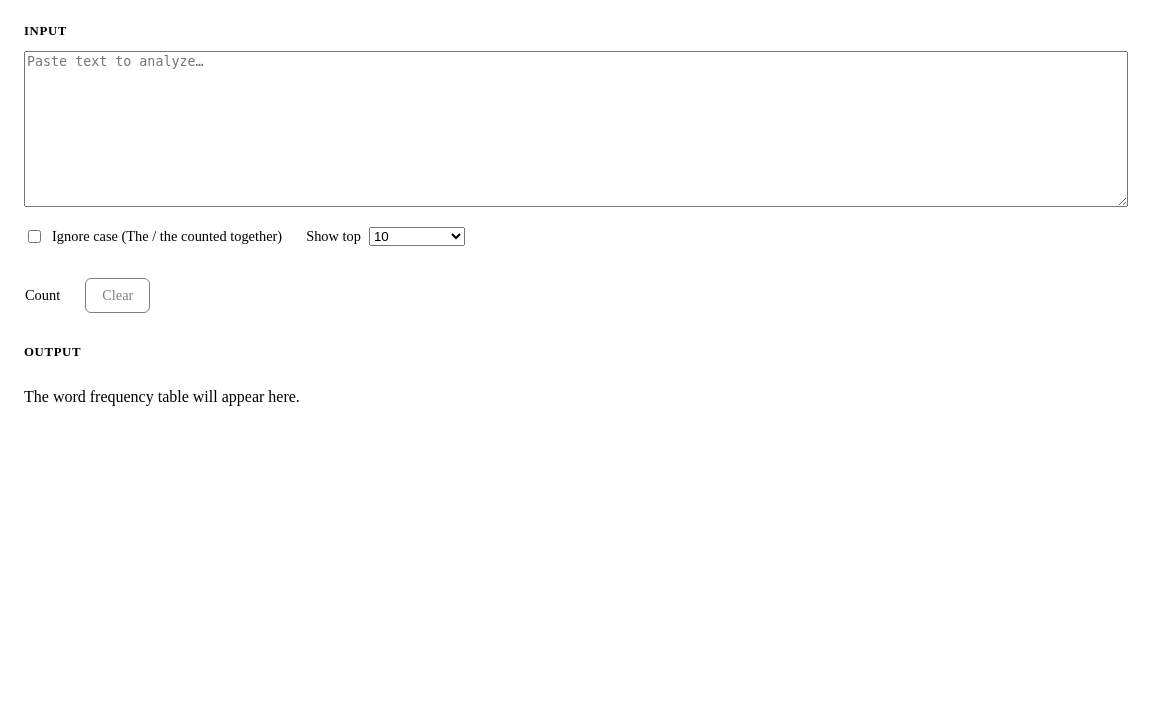
Test: WordFrequencyTool › reflects the ignore-case option in the result
Type "The the THE" into the text box named "Word frequency input". click: (576, 129)
box: [24,51,1128,207]
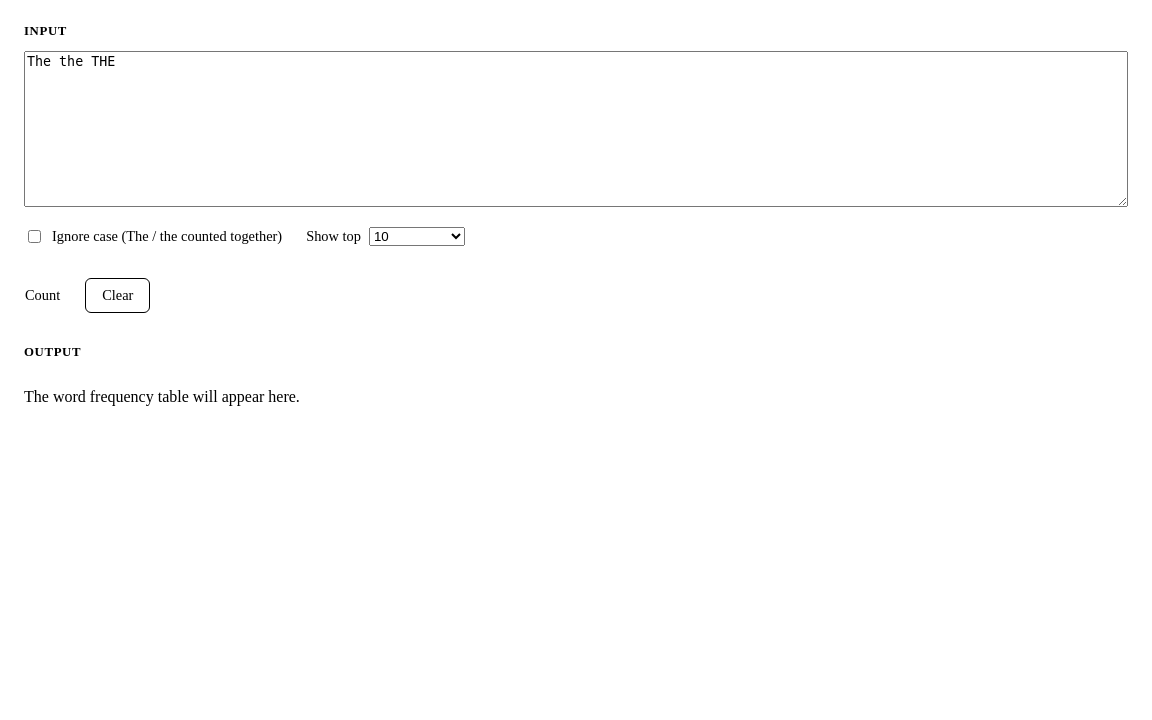
Click the button "Count". click: (43, 296)
box: [8,278,77,313]
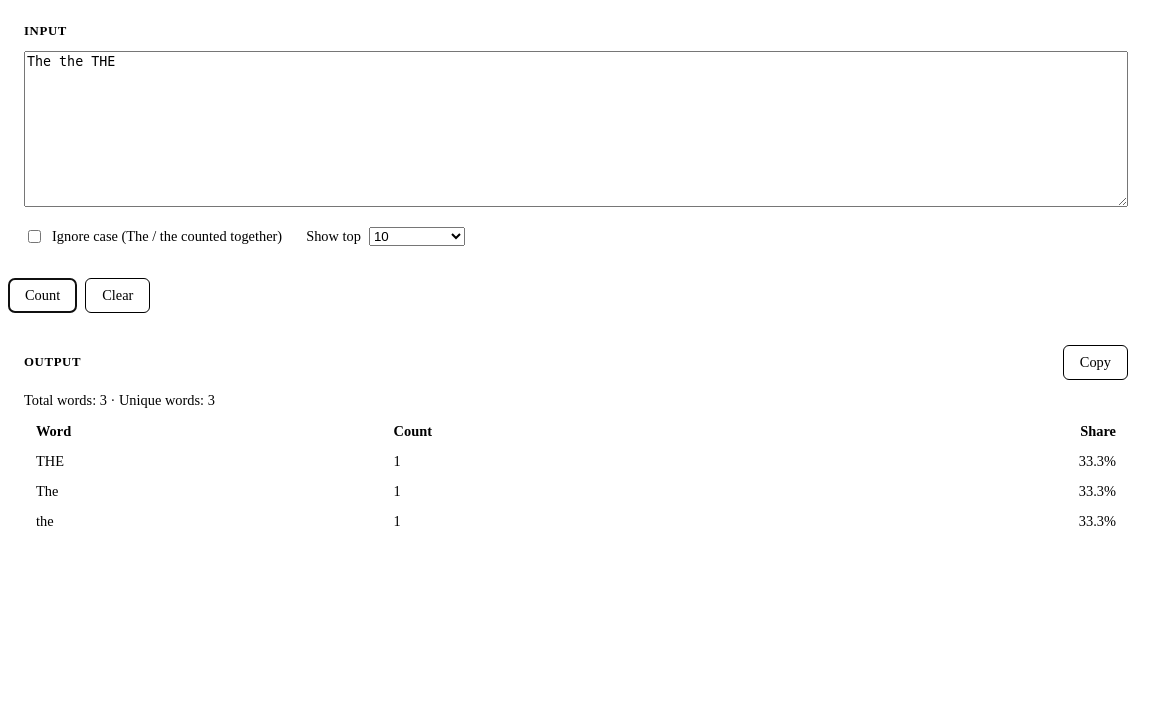
Expected: the text with test id "word-frequency-totals" shows "Unique words: 3", [24,392,215,408]
Click the checkbox labelled "Ignore case (The / the counted together)". click: (34, 236)
box: [28,230,41,243]
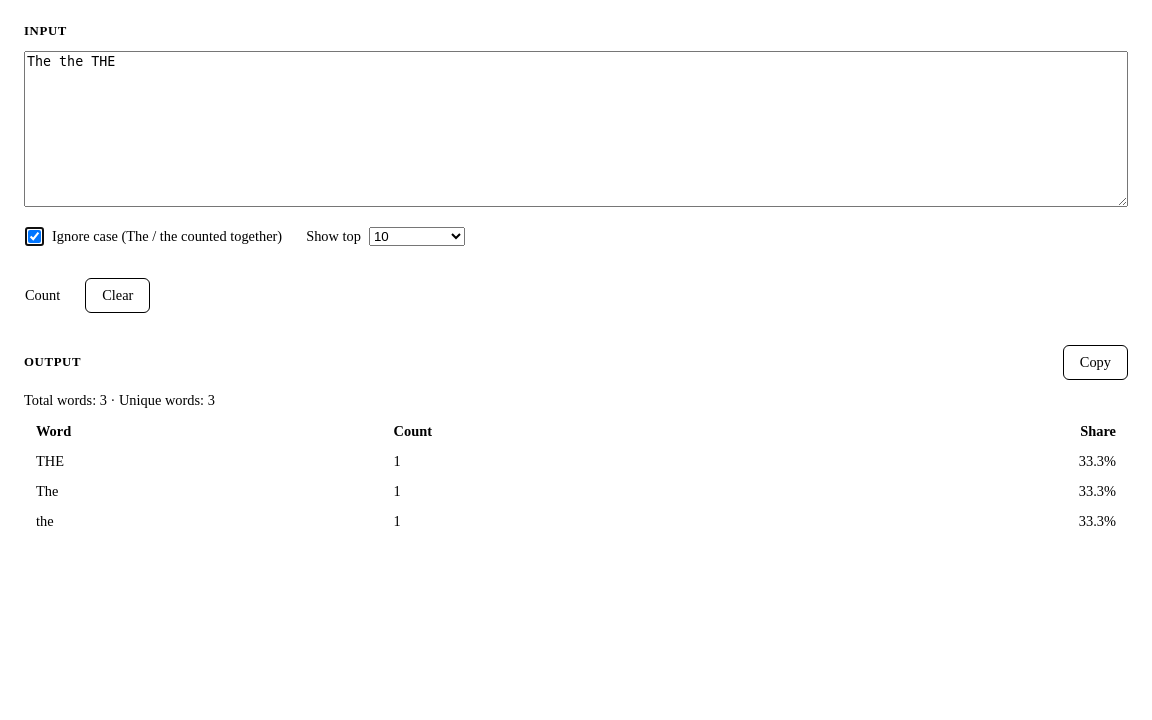
Click the button "Count". click: (43, 296)
box: [8,278,77,313]
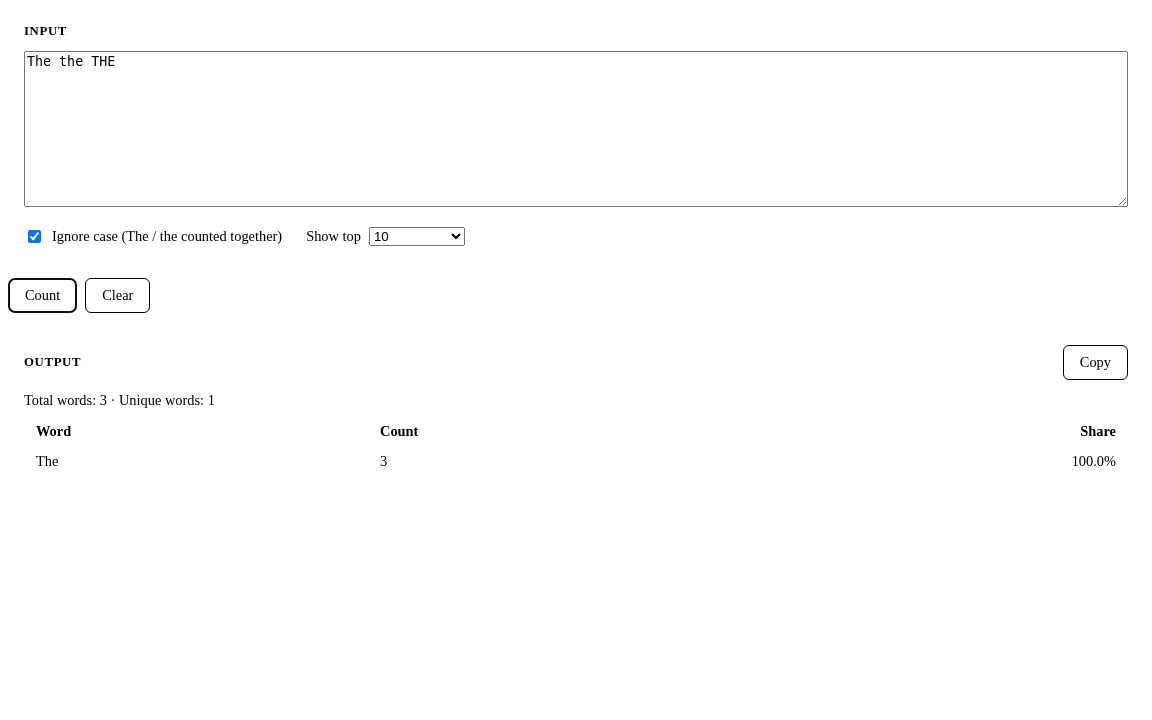
Expected: the element with test id "word-frequency-output" shows "The", [36,453,58,469]
Expected: the text with test id "word-frequency-totals" shows "Unique words: 1", [24,392,215,408]
